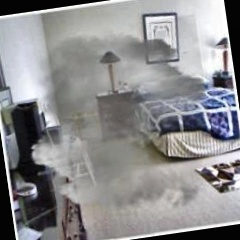smoke: (66, 26, 186, 168)
